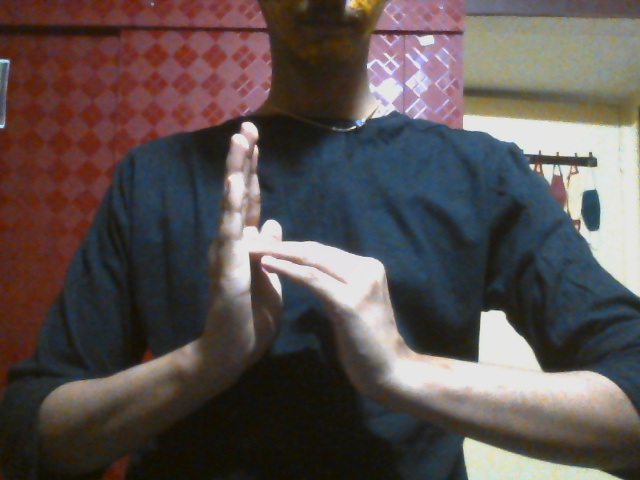Z: (199, 121, 414, 411)
